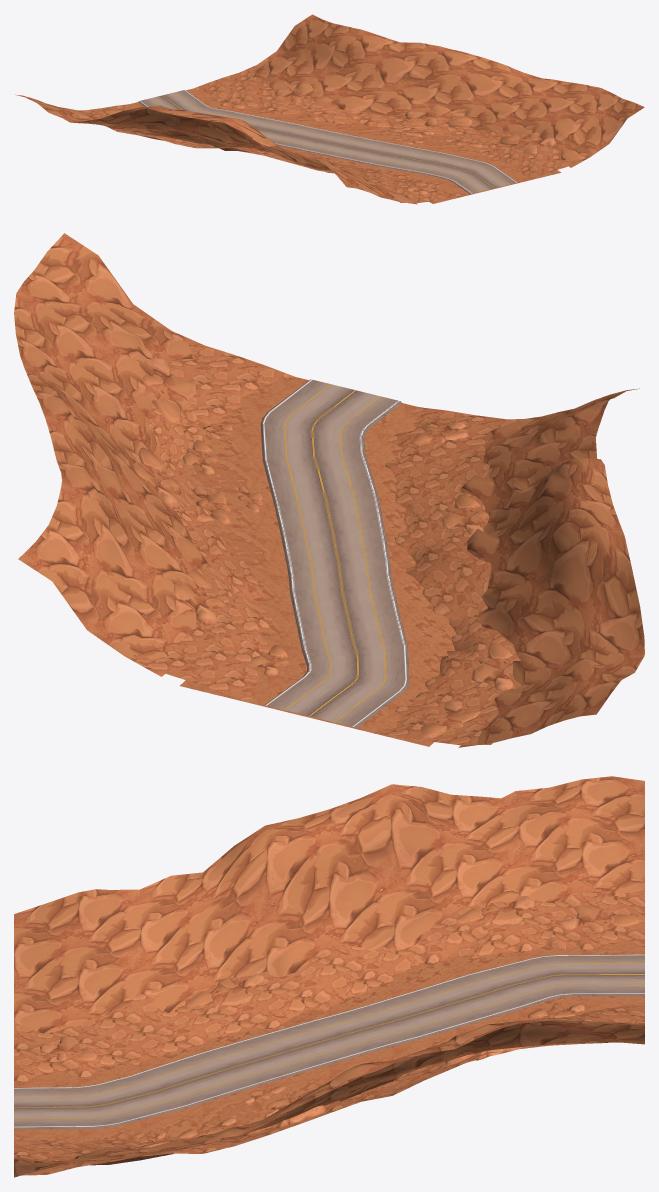
The model's file is Desert_Angled.FBX.
The picture shows the model from 3 angles, top to bottom: view 1: azimuth 30°, elevation 25°; view 2: azimuth 150°, elevation 25°; view 3: azimuth 270°, elevation 25°; orthographic projection. The views are drawn at different scales.
Visible parts, largest first — view 1: Desert_Angled_L, Desert_Angled_R, Desert_Angled_Road; view 2: Desert_Angled_L, Desert_Angled_R, Desert_Angled_Road; view 3: Desert_Angled_R, Desert_Angled_Road, Desert_Angled_L.
Boxes of the visible parts, x1,y1,x2,y2 form: Desert_Angled_L: (186, 14, 644, 188); Desert_Angled_R: (15, 94, 493, 204); Desert_Angled_Road: (138, 90, 517, 194); Desert_Angled_L: (14, 233, 310, 717); Desert_Angled_R: (310, 388, 644, 747); Desert_Angled_Road: (260, 379, 409, 728); Desert_Angled_R: (14, 776, 644, 1087); Desert_Angled_Road: (14, 954, 644, 1129); Desert_Angled_L: (14, 996, 644, 1177).
Size of the model in its own units: 73.31 by 10.17 by 50.
Materials: 2 (2 with a texture image).
